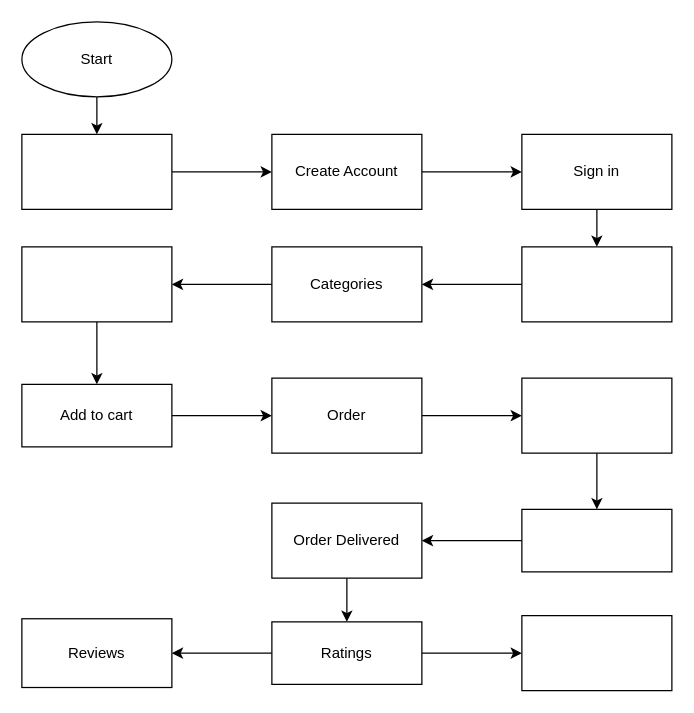
This 694x713 diagram has some shape labels left out. Here are the shapes that lost their labels. From the top down, the centre of each, then its label:
the point at 96,171: Download the app(Swiggy,Zomato)
the point at 96,284: Chicken Dum Biryani, Singapore chicken
the point at 596,284: search (Restraunts,Food items)
the point at 596,415: Pay a bill,Cash on delivery
the point at 596,540: Order Placed
